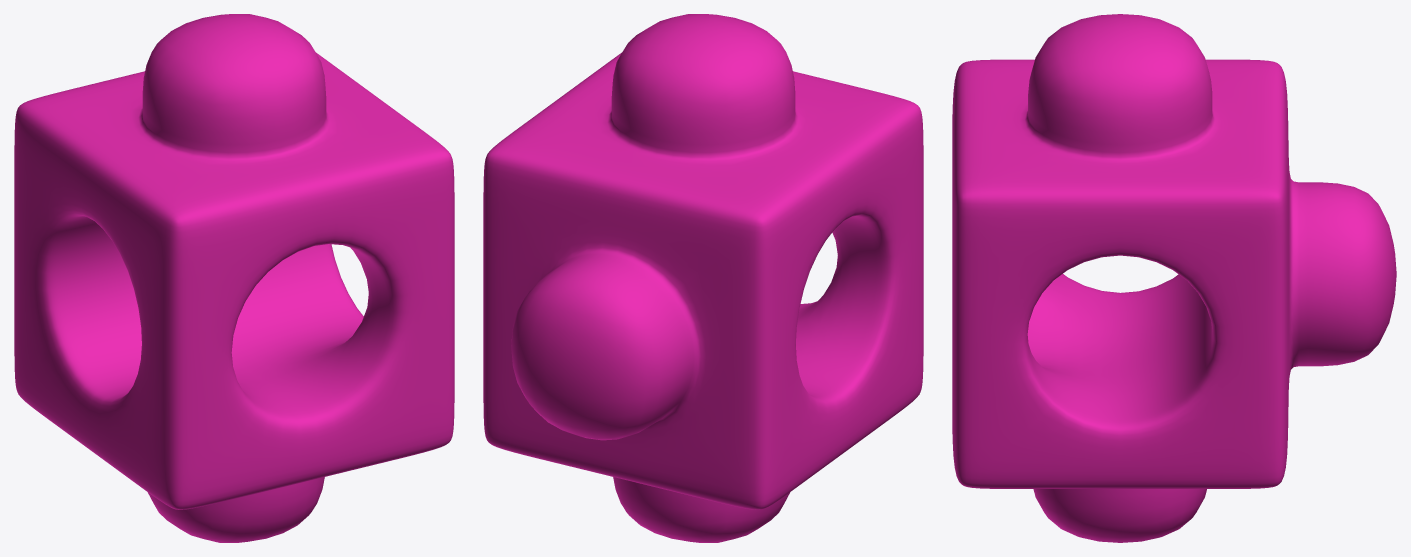
Rendered from blok.glb.
The picture shows the model from 3 angles, left to right: view 1: azimuth 30°, elevation 25°; view 2: azimuth 150°, elevation 25°; view 3: azimuth 270°, elevation 25°; orthographic projection.
Parts seen in each view (by area): view 1: blok; view 2: blok; view 3: blok.
Boxes of the visible parts, x1,y1,x2,y2 form: blok: (14,14,454,542); blok: (483,14,923,542); blok: (952,14,1396,542).
Bounding box in the file's own units: 6.77 × 11.18 × 8.95.
